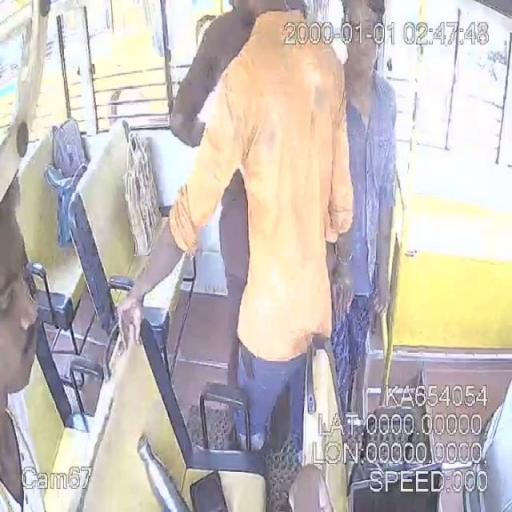persona: (166, 2, 356, 460), (326, 1, 399, 434), (0, 170, 47, 511)
